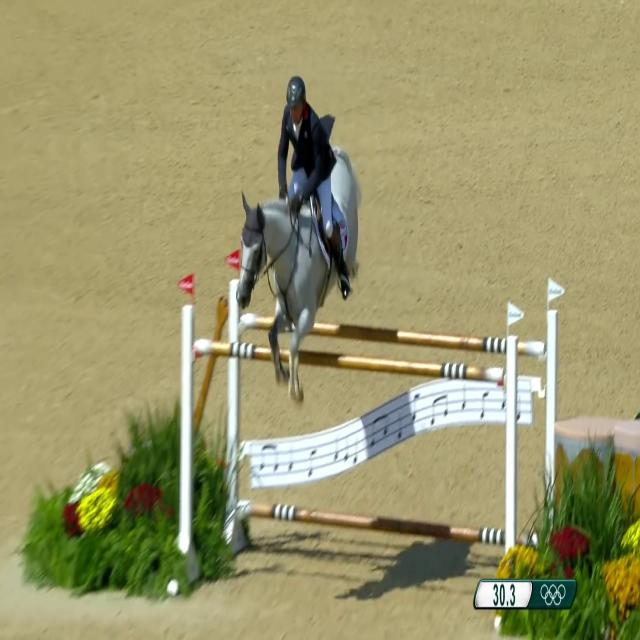Horse Jumping: (224, 147, 387, 412)
Horse Rider: (268, 48, 362, 315)
